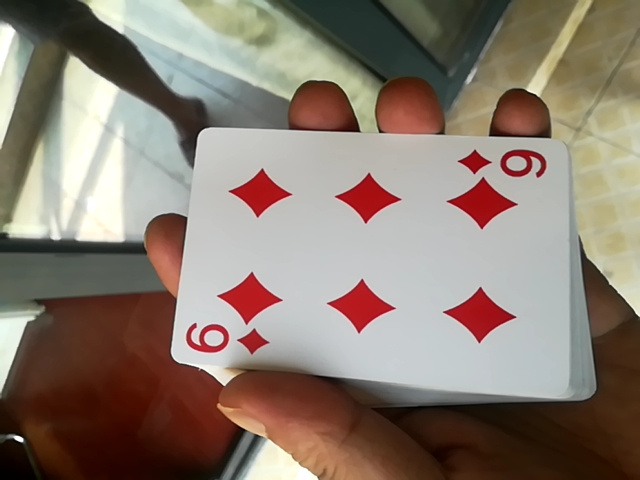fk 6: (158, 113, 591, 409)
